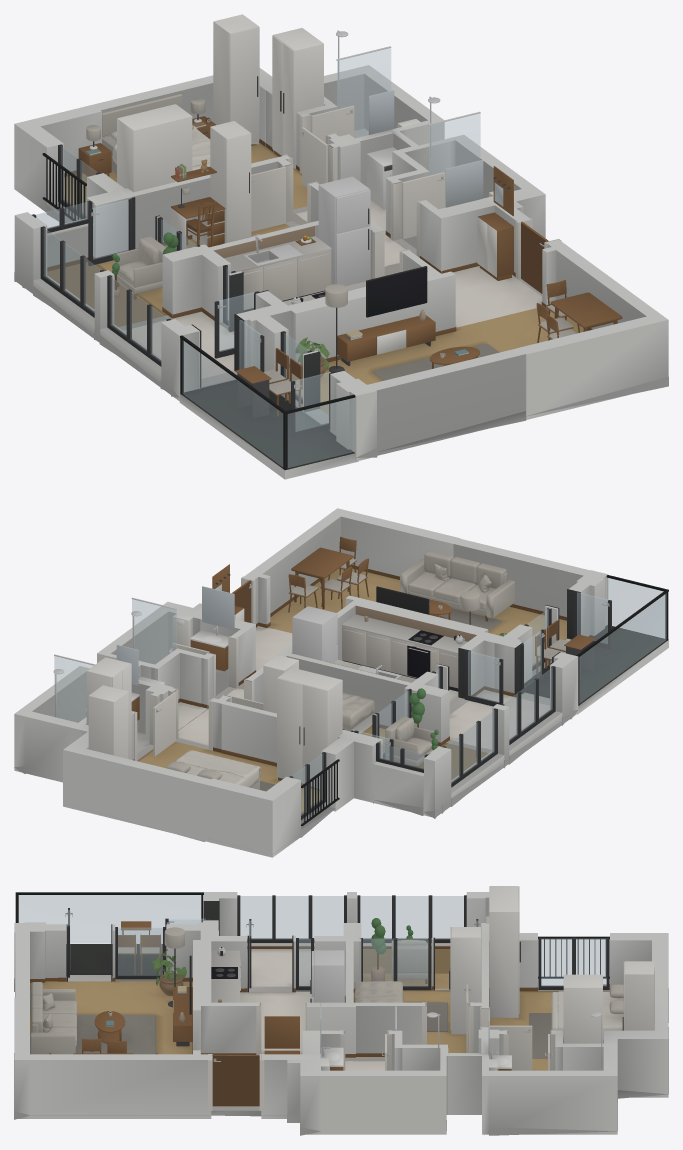
Rendered from daire_2p1_tefrisli-Dgg3qMw1.glb.
The picture shows the model from 3 angles, top to bottom: view 1: azimuth 30°, elevation 25°; view 2: azimuth 150°, elevation 25°; view 3: azimuth 270°, elevation 25°; orthographic projection. The views are drawn at different scales.
Visible parts, largest first — view 1: Duvarlar_G_DWG_Kesit_mesh, Korkuluk_Camlari_mesh, Acik_Balkon_Doseme_mesh, gardirop_guneybati_mesh, Dosemeler_mesh, gardirop_nis_mesh, gardirop_kuzey_mesh, buzdolabi_mesh, tezgah_kuzey_mesh, Dosemeler__antre_mesh, gardirop_cocuk_mesh, Kapilar__antre_mesh (+40 smaller); view 2: Duvarlar_G_DWG_Kesit_mesh, gardirop_guneybati_mesh, Korkuluk_Camlari_mesh, tezgah_guney_mesh, kanepe_3lu_mesh, Acik_Balkon_Doseme_mesh, Dosemeler_mesh, Pencere_Camlari__gecis_mesh, Dosemeler__kapali_balkon_mesh, gardirop_kuzey_mesh, Dosemeler__antre_mesh, banyo_dus_mesh (+37 smaller); view 3: Duvarlar_G_DWG_Kesit_mesh, Pencere_Camlari__gecis_mesh, Korkuluk_Camlari_mesh, Pencere_Camlari__kapali_balkon_mesh, Dosemeler_mesh, gardirop_guneybati_mesh, Kapilar__antre_mesh, gardirop_cocuk_mesh, kanepe_3lu_mesh, Pencere_Camlari__oda_mesh, gardirop_nis_mesh, Pencere_Camlari__yatak_mesh (+42 smaller).
Boxes of the visible parts, bbox=[...] form: Duvarlar_G_DWG_Kesit_mesh: bbox=[14, 65, 668, 461]; Korkuluk_Camlari_mesh: bbox=[182, 340, 354, 467]; Acik_Balkon_Doseme_mesh: bbox=[179, 379, 358, 479]; gardirop_guneybati_mesh: bbox=[117, 104, 192, 192]; Dosemeler_mesh: bbox=[288, 308, 583, 414]; gardirop_nis_mesh: bbox=[272, 28, 323, 168]; gardirop_kuzey_mesh: bbox=[213, 14, 259, 145]; buzdolabi_mesh: bbox=[318, 176, 370, 285]; tezgah_kuzey_mesh: bbox=[224, 236, 331, 312]; Dosemeler__antre_mesh: bbox=[286, 200, 542, 327]; gardirop_cocuk_mesh: bbox=[210, 121, 251, 243]; Kapilar__antre_mesh: bbox=[284, 147, 561, 293]; Duvarlar_G_DWG_Kesit_mesh: bbox=[14, 508, 608, 857]; gardirop_guneybati_mesh: bbox=[277, 667, 342, 790]; Korkuluk_Camlari_mesh: bbox=[579, 578, 666, 703]; tezgah_guney_mesh: bbox=[341, 614, 467, 691]; kanepe_3lu_mesh: bbox=[400, 550, 514, 621]; Acik_Balkon_Doseme_mesh: bbox=[524, 625, 668, 714]; Dosemeler_mesh: bbox=[268, 568, 566, 663]; Pencere_Camlari__gecis_mesh: bbox=[379, 691, 494, 783]; Dosemeler__kapali_balkon_mesh: bbox=[446, 690, 549, 752]; gardirop_kuzey_mesh: bbox=[88, 685, 128, 758]; Dosemeler__antre_mesh: bbox=[176, 626, 292, 749]; banyo_dus_mesh: bbox=[131, 597, 176, 664]; Duvarlar_G_DWG_Kesit_mesh: bbox=[14, 892, 668, 1134]; Pencere_Camlari__gecis_mesh: bbox=[360, 896, 463, 985]; Korkuluk_Camlari_mesh: bbox=[19, 895, 200, 943]; Pencere_Camlari__kapali_balkon_mesh: bbox=[240, 896, 343, 985]; Dosemeler_mesh: bbox=[30, 981, 192, 1054]; gardirop_guneybati_mesh: bbox=[489, 886, 520, 1017]; Kapilar__antre_mesh: bbox=[208, 1003, 480, 1110]; gardirop_cocuk_mesh: bbox=[449, 927, 480, 1034]; kanepe_3lu_mesh: bbox=[30, 982, 76, 1054]; Pencere_Camlari__oda_mesh: bbox=[363, 939, 427, 986]; gardirop_nis_mesh: bbox=[563, 974, 602, 1043]; Pencere_Camlari__yatak_mesh: bbox=[541, 938, 606, 986].
Size of the model in its own units: 8.54 by 2.5 by 12.84.
